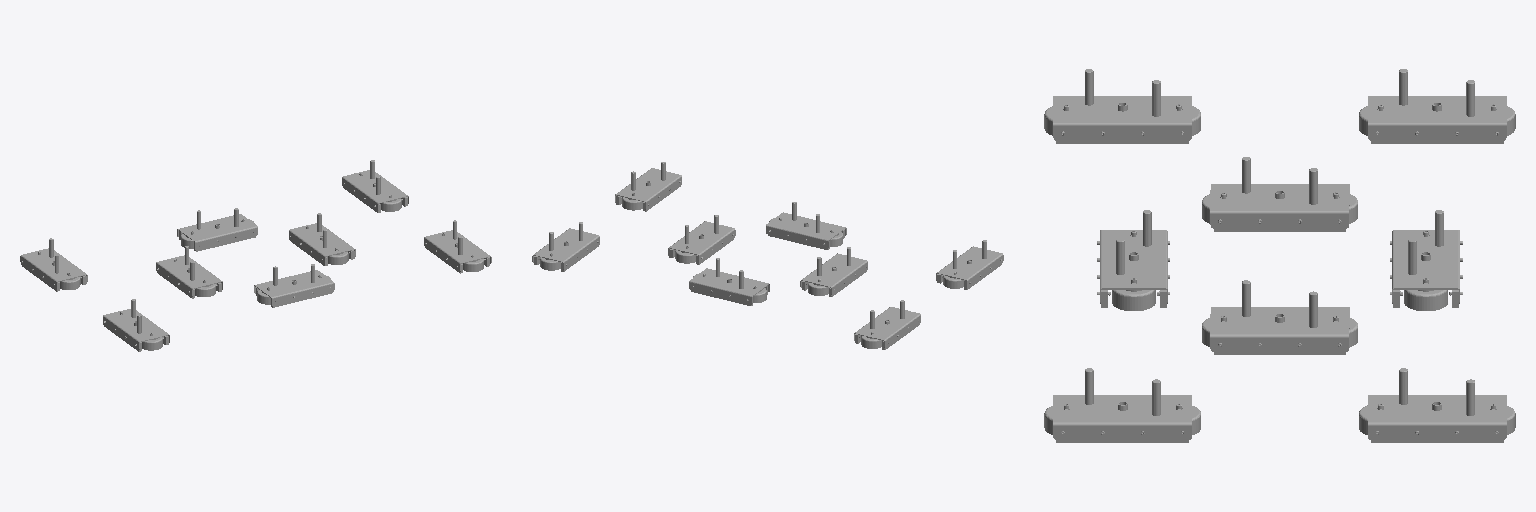
URDF robot description (vertical_robot):
<?xml version="1.0" ?>
<robot name="vertical_robot" xmlns:xacro="http://ros.org/wiki/xacro">

  <material name="dark">
    <color rgba="0.3 0.3 0.3 1.0"/>
  </material>
  

  <link name="base_link">
    <visual>
      <origin xyz="0 0 0.28" rpy="0 0 1.57"/>
    </visual>
  </link>

  <joint name="world_joint" type="fixed">
    <parent link="base_link"/>
    <child link="link_2"/>
    <origin xyz="0.0 0.0 0.0" rpy="0 0 0"/>
    <axis xyz="0 0 0"/>
  </joint>


  <link name="link_1">
    <visual>
      <origin xyz="0 0 0" rpy="0 0 0"/>
      <geometry>
        <mesh filename="package://platform_description/meshes/link1.stl" scale="0.1 0.1 0.1"/>
      </geometry>
			<material name="grey">
    				<color rgba="0.7 0.7 0.7 1.0"/>
  		</material>
    </visual>
  </link>
  
  <joint name="joint_2" type="revolute">
    <parent link="link_2"/>
    <child link="link_1"/>
    <origin xyz="0.0 0.0 0.0" rpy="0 0 0"/>
    <limit effort="30" velocity="1.0" lower="0" upper="6.28" />
    <axis xyz="0 0 1"/>
  </joint>

  <link name="link_2">
    <visual>
      <origin xyz="0 0 0.0" rpy="0 0 0"/>
      <geometry>
        <mesh filename="package://platform_description/meshes/link2.stl" scale="0.001 0.001 0.001"/>
      </geometry>
			<material name="grey">
    				<color rgba="0.7 0.7 0.7 1.0"/>
  		</material>
    </visual>
  </link>

  <joint name="joint_1" type="prismatic">
    <parent link="link_2"/>
    <child link="link_3"/>
    <origin xyz="0.0 0.0 0.0" rpy="0 0 0"/>
    <limit effort="30" velocity="1" lower="-0.14" upper="0.14" />
    <axis xyz="1 0 0"/>
  </joint>

  <link name="link_3">
    <visual>
      <origin xyz="0 0 0.0" rpy="0 0 0"/>
      <geometry>
        <mesh filename="package://platform_description/meshes/link3.stl" scale="0.001 0.001 0.001"/>
      </geometry>
			<material name="grey">
    				<color rgba="0.7 0.7 0.7 1.0"/>
  		</material>
    </visual>
  </link>

  <link name="link3_1">
    <visual>
      <origin xyz="0 0 0.0" rpy="0 0 0"/>
      <geometry>
        <mesh filename="package://platform_description/meshes/magnet.stl" scale="0.001 0.001 0.001"/>
      </geometry>
			<material name="grey">
    				<color rgba="0.7 0.7 0.7 1.0"/>
  		</material>
    </visual>
  </link>

  <link name="link3_2">
    <visual>
      <origin xyz="0 0 0.0" rpy="0 0 0"/>
      <geometry>
        <mesh filename="package://platform_description/meshes/magnet.stl" scale="0.001 0.001 0.001"/>
      </geometry>
			<material name="grey">
    				<color rgba="0.7 0.7 0.7 1.0"/>
  		</material>
    </visual>
  </link>

  <link name="link3_3">
    <visual>
      <origin xyz="0 0 0.0" rpy="0 0 0"/>
      <geometry>
        <mesh filename="package://platform_description/meshes/magnet.stl" scale="0.001 0.001 0.001"/>
      </geometry>
			<material name="grey">
    				<color rgba="0.7 0.7 0.7 1.0"/>
  		</material>
    </visual>
  </link>
  
  <link name="link3_4">
    <visual>
      <origin xyz="0 0 0.0" rpy="0 0 0"/>
      <geometry>
        <mesh filename="package://platform_description/meshes/magnet.stl" scale="0.001 0.001 0.001"/>
      </geometry>
			<material name="grey">
    				<color rgba="0.7 0.7 0.7 1.0"/>
  		</material>
    </visual>
  </link>

  <link name="link1_1">
    <visual>
      <origin xyz="0 0 0.0" rpy="0 0 0"/>
      <geometry>
        <mesh filename="package://platform_description/meshes/magnet.stl" scale="0.001 0.001 0.001"/>
      </geometry>
			<material name="grey">
    				<color rgba="0.7 0.7 0.7 1.0"/>
  		</material>
    </visual>
  </link>

  <link name="link1_2">
    <visual>
      <origin xyz="0 0 0.0" rpy="0 0 0"/>
      <geometry>
        <mesh filename="package://platform_description/meshes/magnet.stl" scale="0.001 0.001 0.001"/>
      </geometry>
			<material name="grey">
    				<color rgba="0.7 0.7 0.7 1.0"/>
  		</material>
    </visual>
  </link>

  <link name="link1_3">
    <visual>
      <origin xyz="0 0 0.0" rpy="0 0 0"/>
      <geometry>
        <mesh filename="package://platform_description/meshes/magnet.stl" scale="0.001 0.001 0.001"/>
      </geometry>
			<material name="grey">
    				<color rgba="0.7 0.7 0.7 1.0"/>
  		</material>
    </visual>
  </link>

  <link name="link1_4">
    <visual>
      <origin xyz="0 0 0.0" rpy="0 0 0"/>
      <geometry>
        <mesh filename="package://platform_description/meshes/magnet.stl" scale="0.001 0.001 0.001"/>
      </geometry>
			<material name="grey">
    				<color rgba="0.7 0.7 0.7 1.0"/>
  		</material>
    </visual>
  </link>

  <joint name="joint1_1" type="prismatic">
    <parent link="link_1"/>
    <child link="link1_1"/>
    <origin xyz="0.0 -0.330 -0.08" rpy="0 0 0"/>
    <limit effort="30" velocity="1" lower="0" upper="0.05" />
    <axis xyz="0 0 -1"/>
  </joint>

  <joint name="joint1_2" type="prismatic">
    <parent link="link_1"/>
    <child link="link1_2"/>
    <origin xyz="0 0.330 -0.08" rpy="0 0 0"/>
    <limit effort="30" velocity="1" lower="0" upper="0.05" />
    <axis xyz="0 0 -1"/>
  </joint>

  <joint name="joint1_3" type="prismatic">
    <parent link="link_1"/>
    <child link="link1_3"/>
    <origin xyz="-0.330 0 -0.08" rpy="0 0 1.57"/>
    <limit effort="30" velocity="1" lower="0" upper="0.05" />
    <axis xyz="0 0 -1"/>
  </joint>

  <joint name="joint1_4" type="prismatic">
    <parent link="link_1"/>
    <child link="link1_4"/>
    <origin xyz="0.330 0 -0.08" rpy="0 0 1.57"/>
    <limit effort="30" velocity="1" lower="0" upper="0.05" />
    <axis xyz="0 0 -1"/>
  </joint>


  <joint name="joint3_1" type="prismatic">
    <parent link="link_3"/>
    <child link="link3_1"/>
    <origin xyz="0.800 -0.355 -0.08" rpy="0 0 1.57"/>
    <limit effort="30" velocity="1" lower="0" upper="0.05" />
    <axis xyz="0 0 -1"/>
  </joint>

  <joint name="joint3_2" type="prismatic">
    <parent link="link_3"/>
    <child link="link3_2"/>
    <origin xyz="-0.800 -0.355 -0.08" rpy="0 0 1.57"/>
    <limit effort="30" velocity="1" lower="0" upper="0.05" />
    <axis xyz="0 0 -1"/>
  </joint>

  <joint name="joint3_3" type="prismatic">
    <parent link="link_3"/>
    <child link="link3_3"/>
    <origin xyz="-0.800 0.355 -0.08" rpy="0 0 1.57"/>
    <limit effort="30" velocity="1" lower="0" upper="0.05" />
    <axis xyz="0 0 -1"/>
  </joint>

  <joint name="joint3_4" type="prismatic">
    <parent link="link_3"/>
    <child link="link3_4"/>
    <origin xyz="0.800 0.355 -0.08" rpy="0 0 1.57"/>
    <limit effort="30" velocity="1" lower="0" upper="0.05" />
    <axis xyz="0 0 -1"/>
  </joint>


</robot>

--- What the picture shows (computed from the rendered views, not written in the file) ---
The picture shows the robot from 3 angles, left to right: view 1: azimuth 30°, elevation 25°; view 2: azimuth 150°, elevation 25°; view 3: azimuth 270°, elevation 25°; orthographic projection.
Model vertical_robot with 12 links and 11 joints (1 revolute, 9 prismatic, 1 fixed), rooted at base_link, posed all joints at 0.
Visible links, largest first — view 1: link1_1, link1_2, link3_3, link1_4, link3_2, link3_4, link3_1, link1_3; view 2: link1_1, link1_2, link3_1, link3_2, link3_3, link1_3, link1_4, link3_4; view 3: link3_3, link3_2, link3_1, link3_4, link1_3, link1_4, link1_2, link1_1.
Boxes of the visible links, box(x1,y1,x2,y2) form: link1_1: box(254, 264, 334, 307); link1_2: box(177, 208, 257, 251); link3_3: box(20, 238, 87, 291); link1_4: box(289, 213, 355, 265); link3_2: box(103, 299, 169, 351); link3_4: box(342, 160, 408, 212); link3_1: box(424, 220, 491, 273); link1_3: box(156, 246, 222, 298); link1_1: box(766, 202, 846, 249); link1_2: box(689, 258, 769, 305); link3_1: box(615, 162, 681, 211); link3_2: box(936, 240, 1003, 289); link3_3: box(854, 300, 920, 349); link1_3: box(800, 247, 867, 296); link1_4: box(668, 215, 735, 264); link3_4: box(532, 222, 599, 271); link3_3: box(1359, 69, 1515, 143); link3_2: box(1044, 69, 1200, 143); link3_1: box(1044, 368, 1200, 442); link3_4: box(1359, 368, 1515, 442); link1_3: box(1202, 157, 1357, 231); link1_4: box(1202, 280, 1357, 354); link1_2: box(1390, 210, 1462, 310); link1_1: box(1097, 210, 1169, 310).
Bounding box of the posed robot: 1.77 × 1.06 × 0.136 m (x, y, z).
8 mesh visuals loaded from 4 distinct referenced files (1 binary STL); not drawn: 3 (reference not matched to a file when rendering).